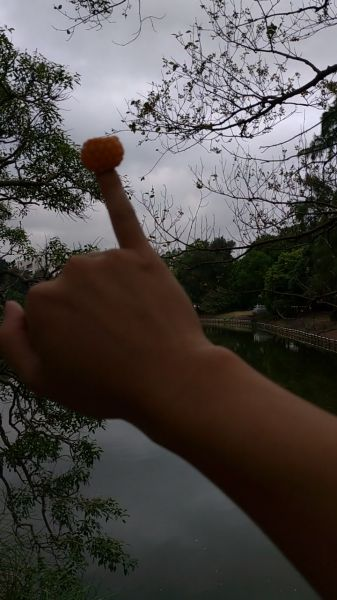eggs: (80, 134, 127, 171)
